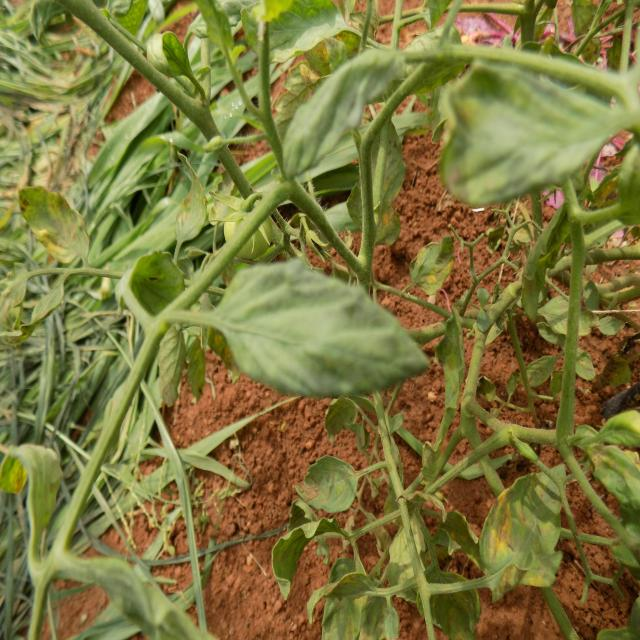tomato_healthy: (216, 267, 432, 394)
